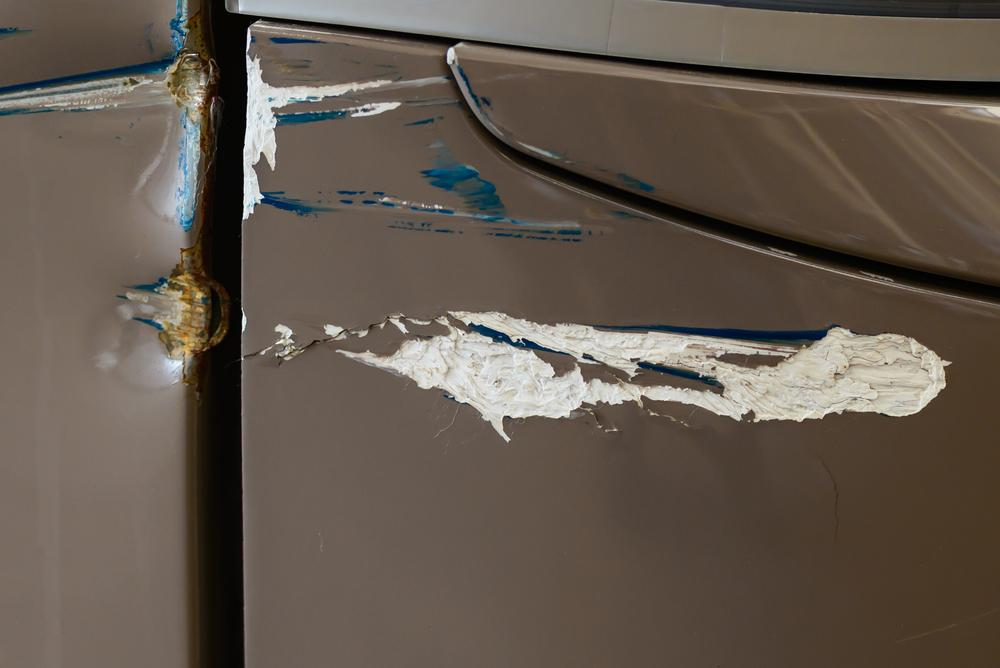dent: (0, 28, 202, 227), (90, 271, 207, 390)
scratch: (248, 306, 959, 447), (242, 28, 602, 243)
